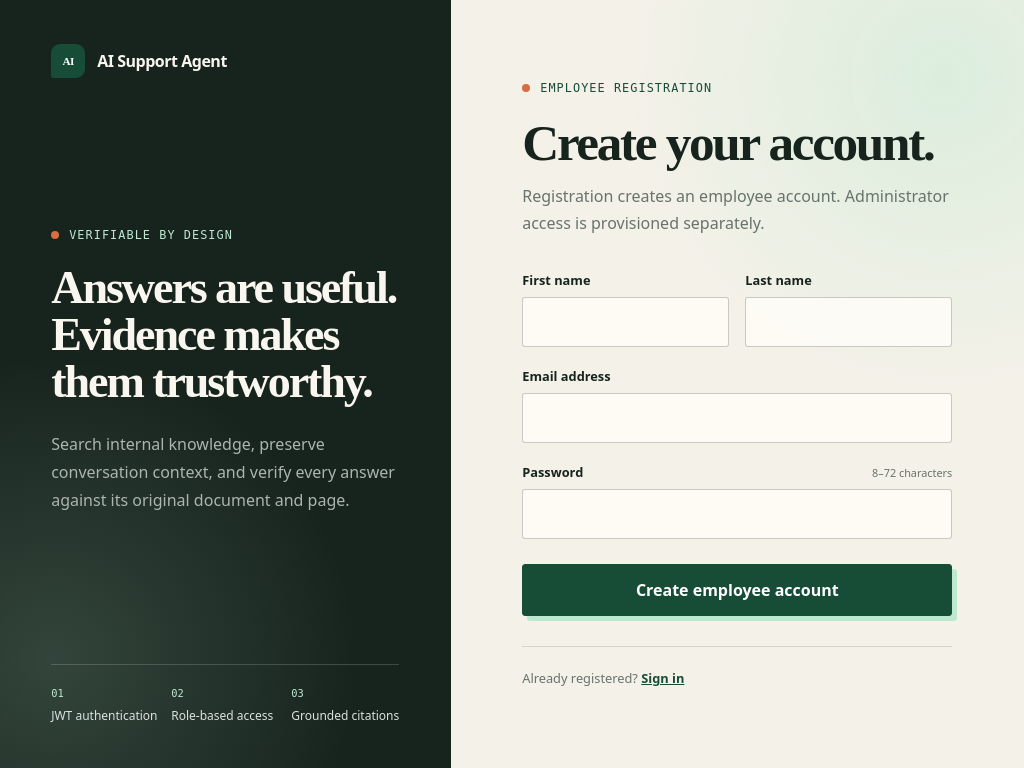
authentication flow › renders field validation returned by Spring
This screenshot has width=1024, height=768.
Expected: the heading "Create your account." is shown, [522,117,952,168]
In the field labelled "First name": point(626, 322) [522,297,729,347], type "Brian"
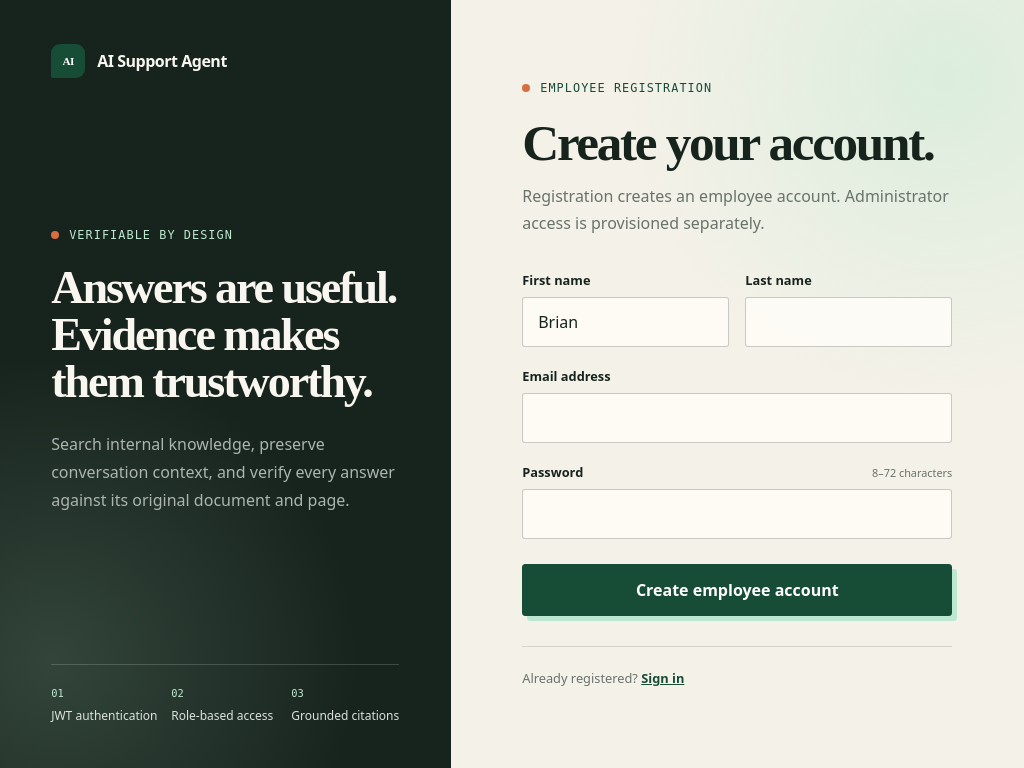
In the field labelled "Last name": point(849, 322) [745,297,952,347], type "Albert"
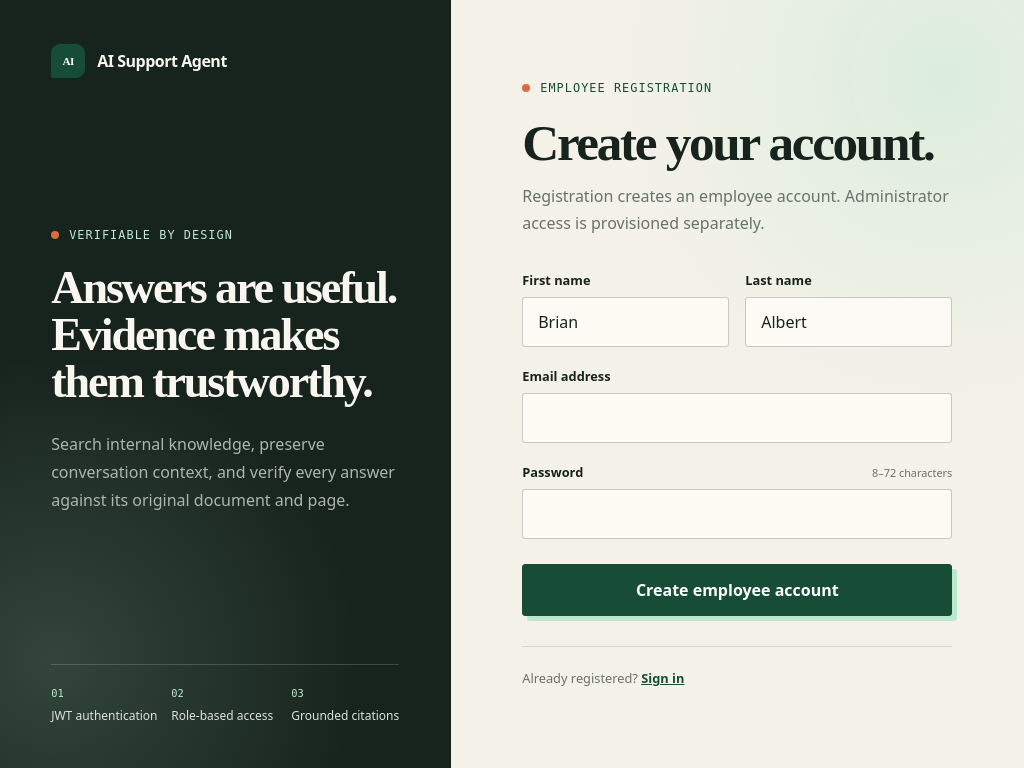
In the field labelled "Email address": point(737, 418) [522,393,952,443], type "invalid"
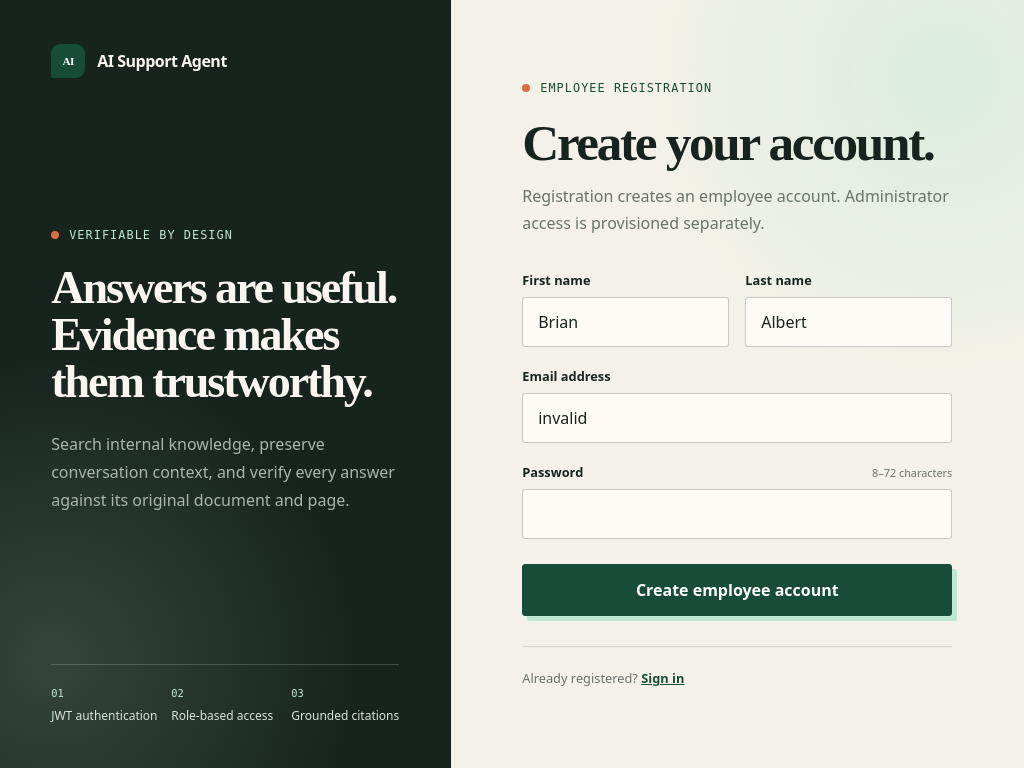
In the password field labelled "Password": point(737, 514) [522,489,952,539], type "correct-password"
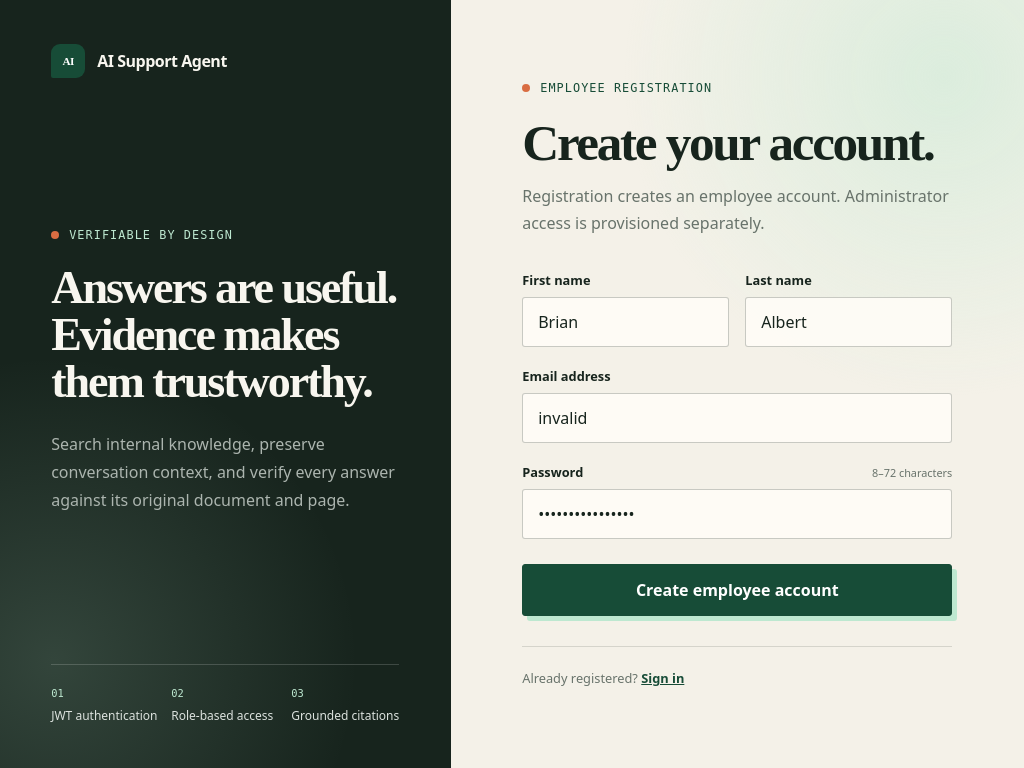
Click the button "Create employee account": point(737, 590) [522,564,952,616]
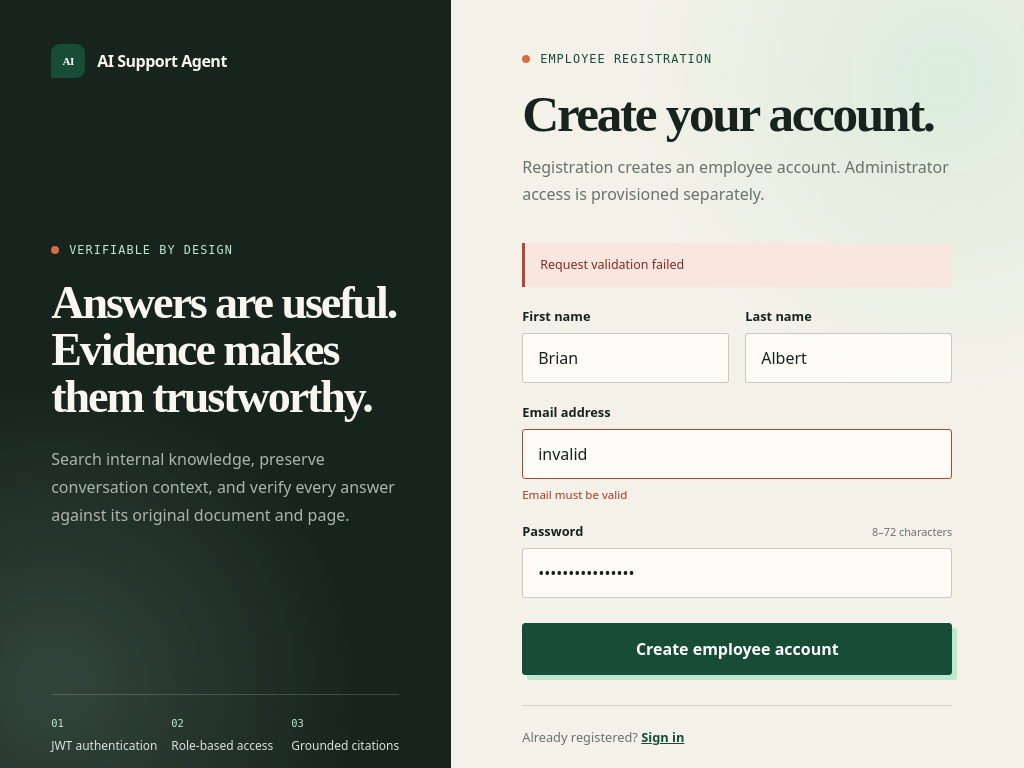
Now the text "Email must be valid" is shown, box [522,487,627,502]
Now the message reads "Request validation failed", box [540,256,684,273]
